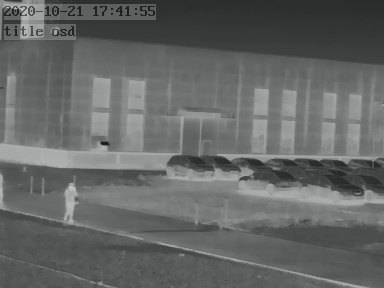person: (62, 181, 79, 224)
vehicle: (302, 170, 362, 199), (237, 169, 303, 194), (164, 153, 213, 179), (203, 153, 242, 177), (349, 173, 383, 200), (232, 154, 270, 171), (261, 155, 296, 170), (347, 156, 380, 170), (317, 156, 348, 169), (295, 156, 325, 169)
